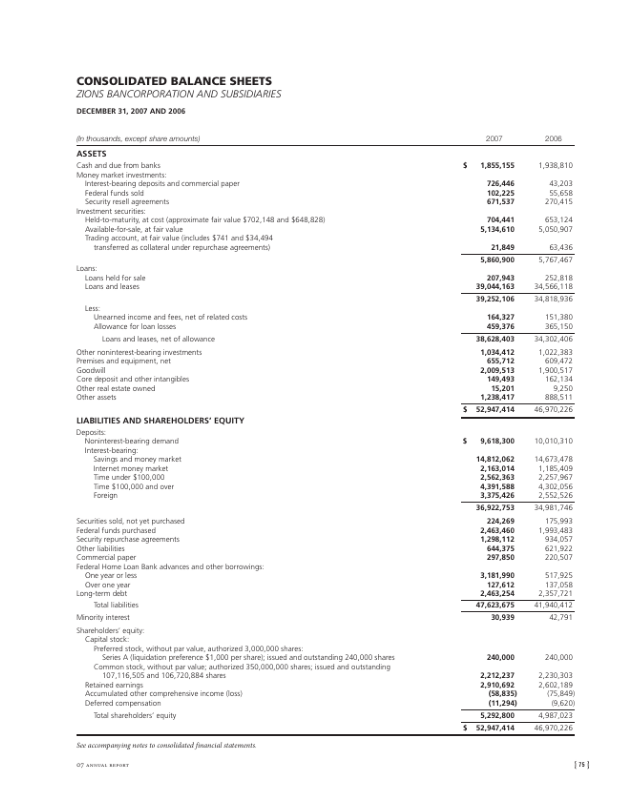table: (66, 127, 576, 738)
